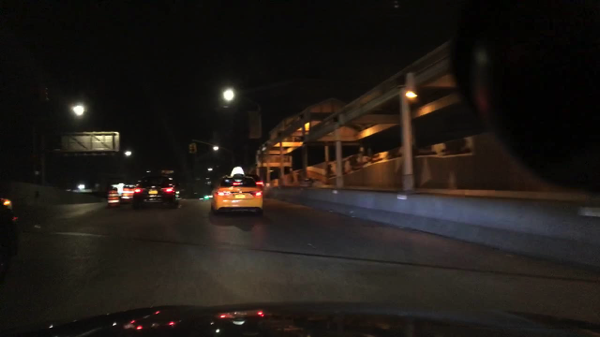car: (212, 166, 263, 215), (132, 174, 180, 207), (0, 198, 18, 284), (247, 174, 263, 189)
traffic light: (39, 84, 49, 101), (188, 143, 198, 153)
traffic sign: (62, 132, 119, 152)
